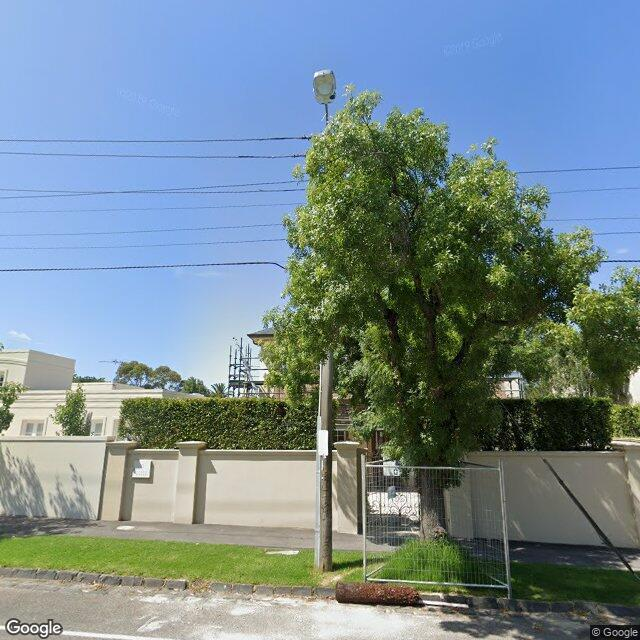streetlight: (313, 68, 336, 124)
timber-pole: (313, 348, 335, 572)
